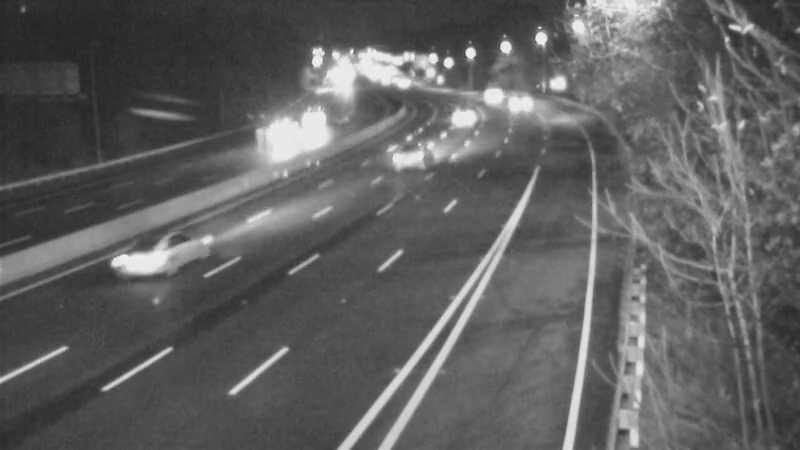vehicle: (373, 112, 453, 192), (111, 222, 191, 302), (462, 63, 512, 113), (485, 75, 535, 125), (425, 92, 475, 142), (264, 107, 314, 157), (288, 93, 338, 143)
